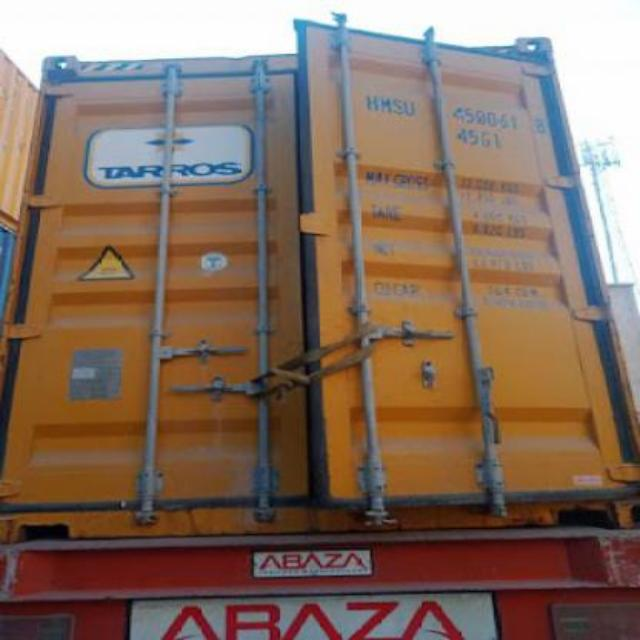0: (474, 101, 486, 125), (486, 100, 496, 128)
1: (510, 111, 520, 131)
4: (451, 100, 464, 124)
5: (462, 99, 474, 125)
6: (500, 100, 510, 130)
8: (528, 110, 554, 136)
H: (364, 90, 378, 114)
M: (378, 91, 392, 112)
S: (391, 92, 404, 115)
U: (404, 94, 418, 118)
